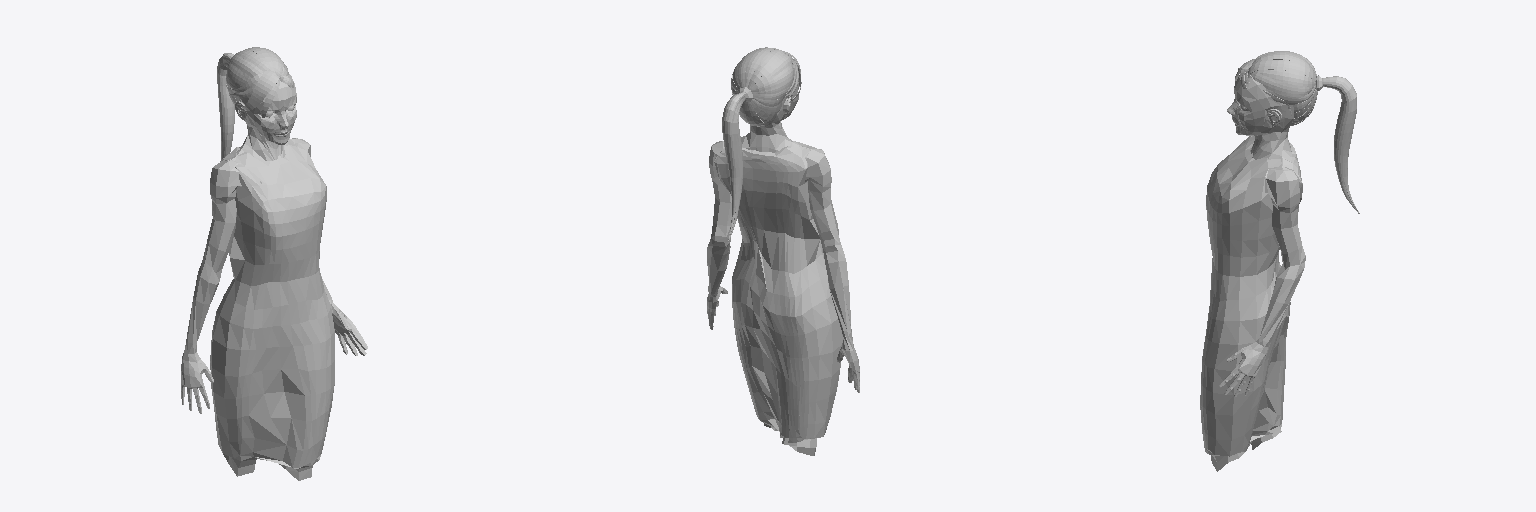
File: Female Body v3.obj
3 renders of one model, left to right at view 1: azimuth 30°, elevation 25°; view 2: azimuth 150°, elevation 25°; view 3: azimuth 270°, elevation 25°, orthographic.
Parts seen in each view (by area): view 1: Eve, Hair; view 2: Eve, Hair; view 3: Eve, Hair.
Part boxes in pixels (x1,y1,x2,y2): Eve: (181,74,367,480); Hair: (217,47,293,159); Eve: (707,62,859,455); Hair: (722,47,801,242); Eve: (1200,73,1305,471); Hair: (1235,51,1359,213).
Bounding box in the file's own units: 2.42 × 5.68 × 2.01.